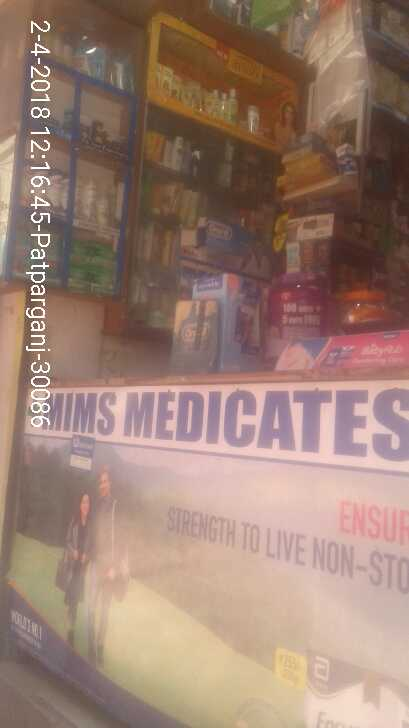vicks: (64, 106, 75, 128)
